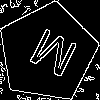M: (22, 27, 81, 87)
